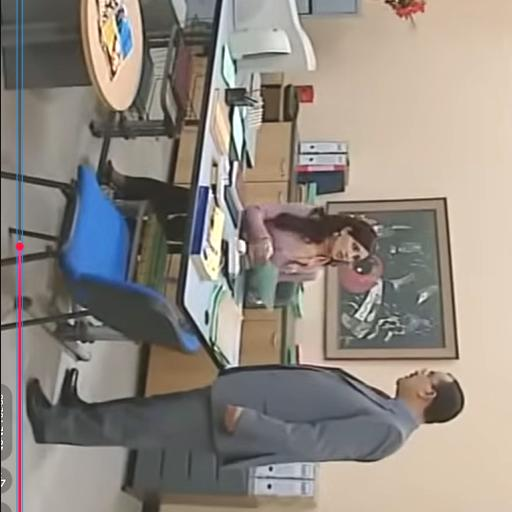Dalanda: (309, 207, 374, 265)
slimane: (394, 367, 464, 427)
